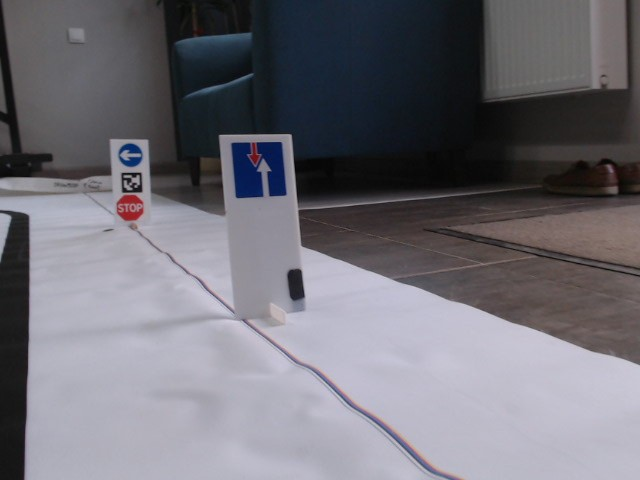Stop: (116, 193, 144, 221)
priority_movement: (230, 140, 287, 198)
